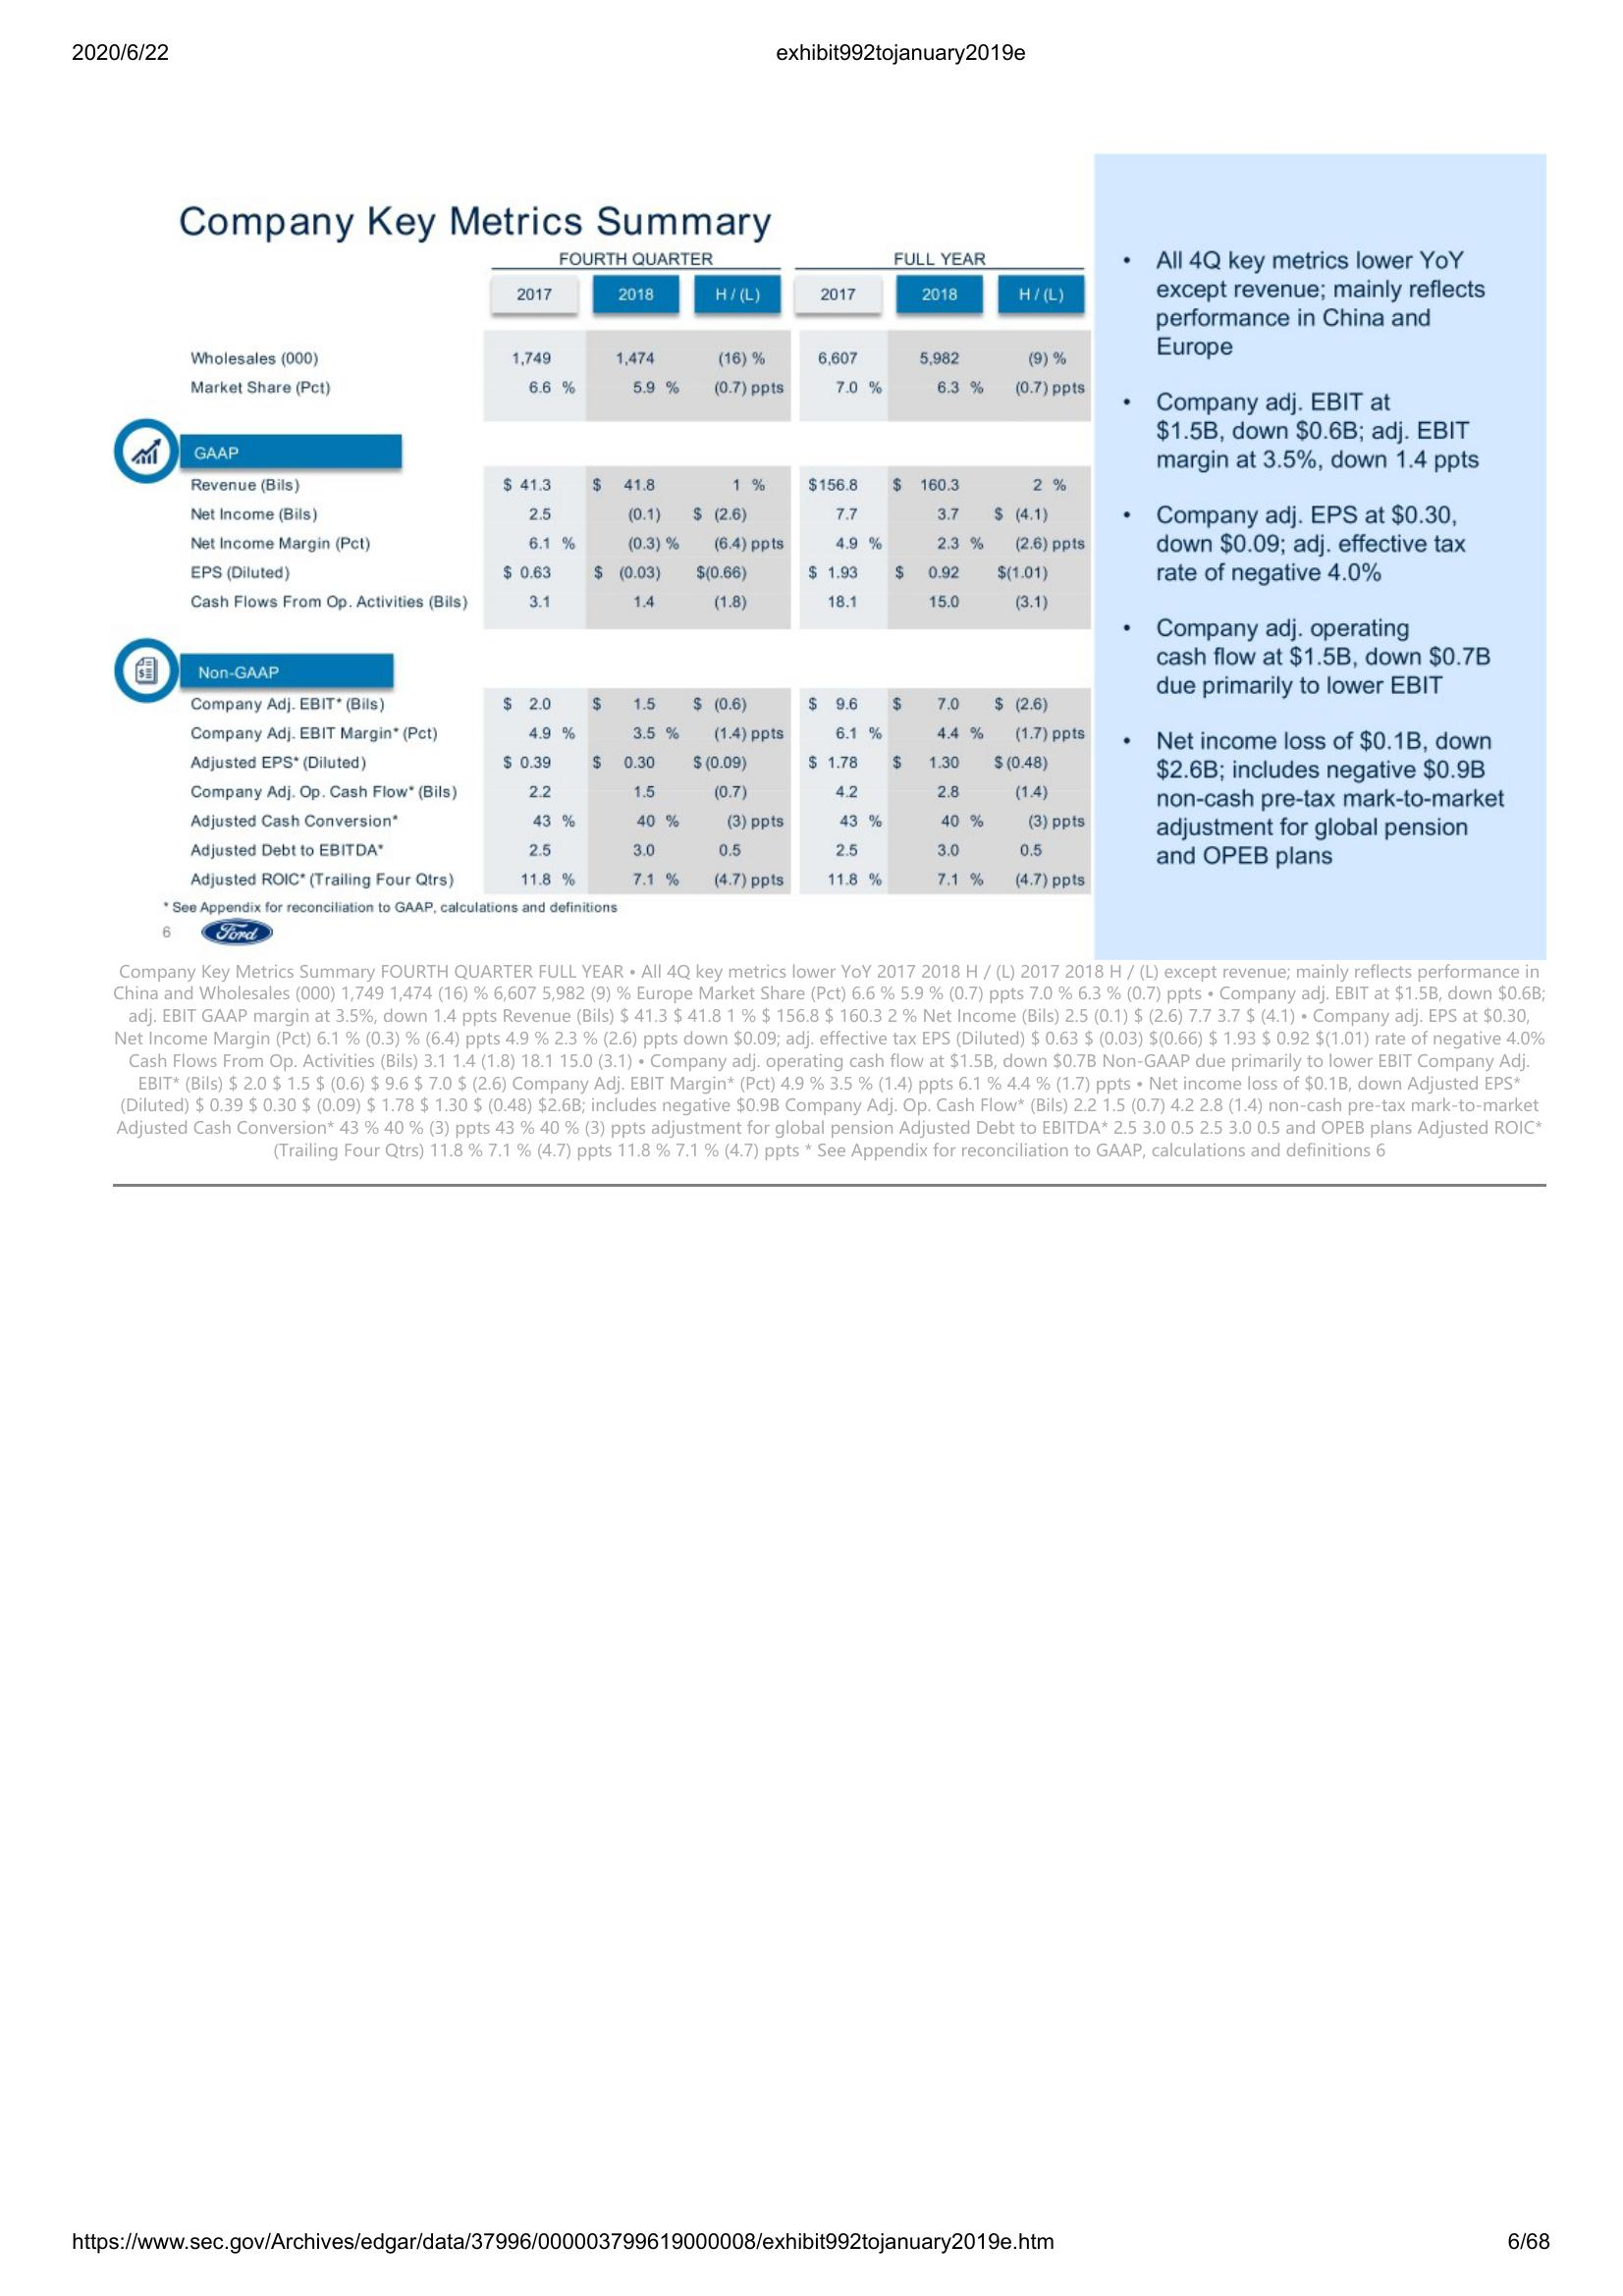table: (111, 244, 1094, 918)
